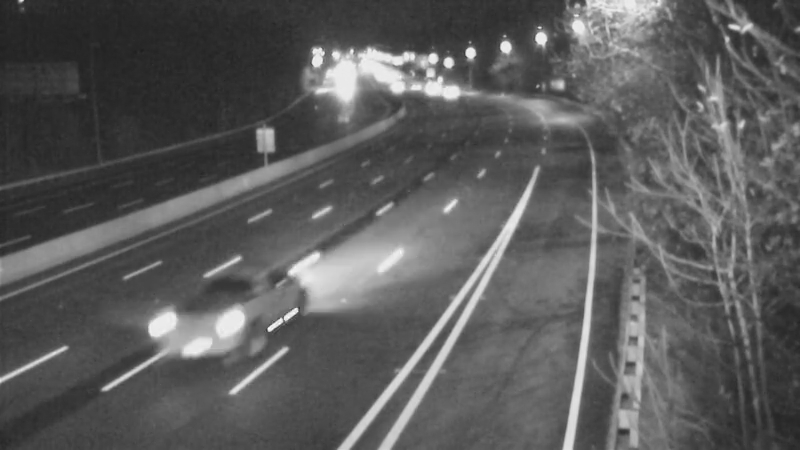vehicle: (132, 272, 242, 382), (373, 61, 423, 111), (404, 64, 454, 114), (421, 68, 471, 118)
